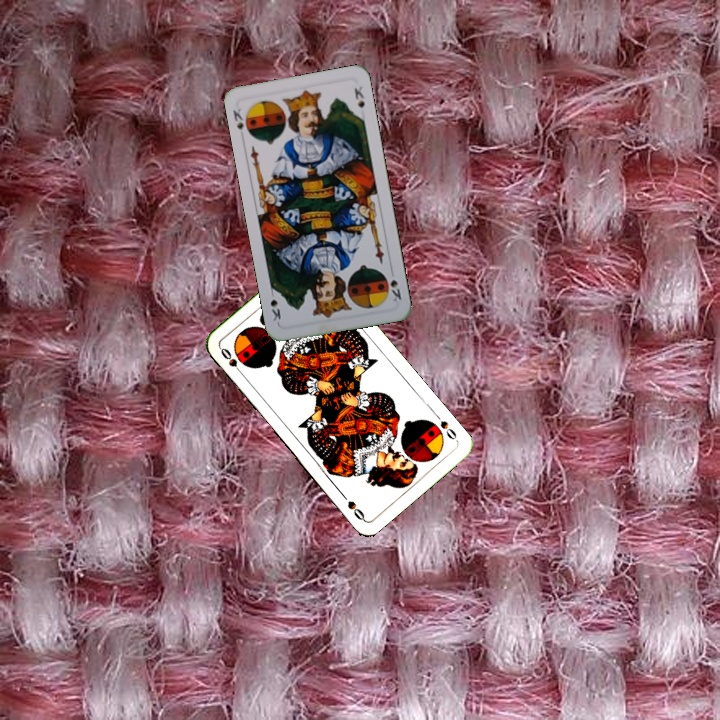SK: (386, 265, 404, 304), (229, 104, 246, 132)
SO: (216, 344, 246, 378), (431, 409, 460, 444)
